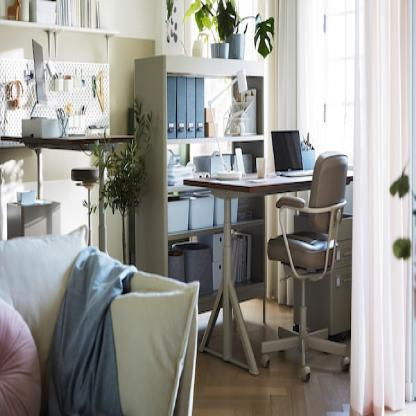chair: (262, 150, 353, 392)
sofa: (0, 229, 205, 416)
table: (185, 164, 352, 339), (0, 129, 149, 223)
